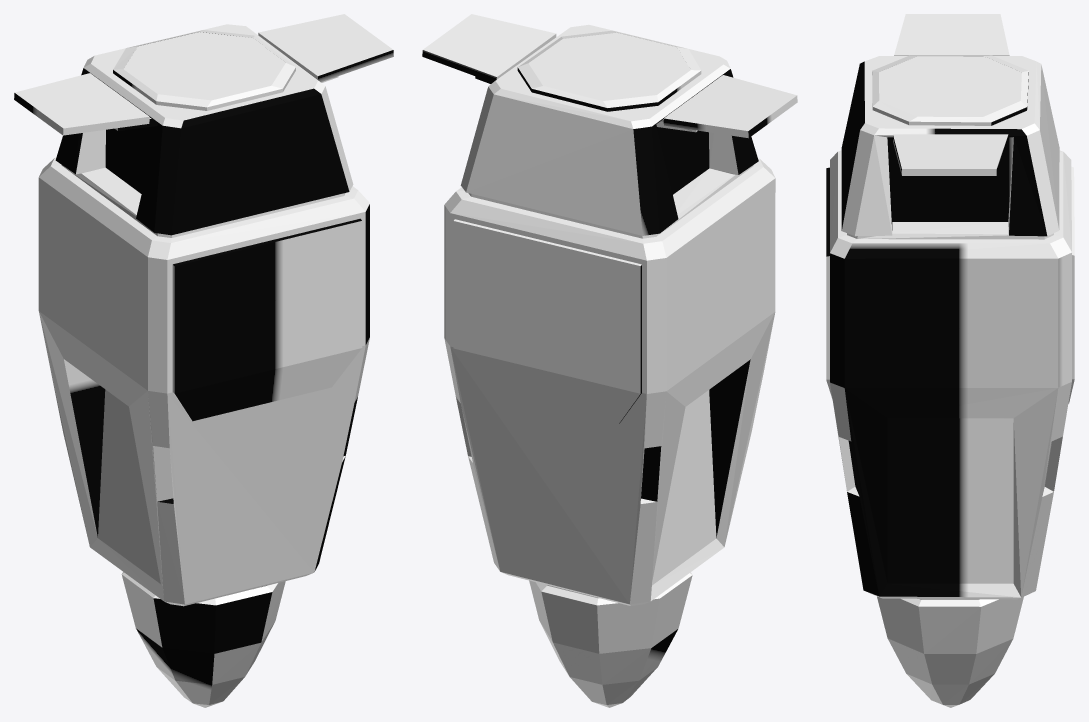
The model's file is hellpod-main.obj.
3 views of the same model, side by side, from view 1: azimuth 30°, elevation 25°; view 2: azimuth 150°, elevation 25°; view 3: azimuth 270°, elevation 25° (orthographic). The views are drawn at different scales.
Visible parts, largest first — view 1: hellpod.main, hellpod.main.001, hellpod.lid, hellpod.main.011, hellpod.main.010; view 2: hellpod.main, hellpod.main.001, hellpod.lid, hellpod.main.011, hellpod.main.010; view 3: hellpod.main, hellpod.main.001, hellpod.lid, hellpod.main.011, hellpod.main.010.
Part boxes in pixels (x1,y1,x2,y2): hellpod.main: (38,24,369,606); hellpod.main.001: (121,572,285,707); hellpod.lid: (124,32,285,100); hellpod.main.011: (258,14,393,82); hellpod.main.010: (14,73,149,135); hellpod.main: (444,24,775,605); hellpod.main.001: (529,572,692,707); hellpod.lid: (528,32,690,100); hellpod.main.011: (422,14,556,82); hellpod.main.010: (663,75,797,138); hellpod.main: (826,55,1074,599); hellpod.main.001: (877,596,1023,707); hellpod.lid: (879,56,1021,116); hellpod.main.011: (893,134,1008,175); hellpod.main.010: (894,14,1009,55).
Bounding box in the file's own units: 2.44 × 4.56 × 1.65.
